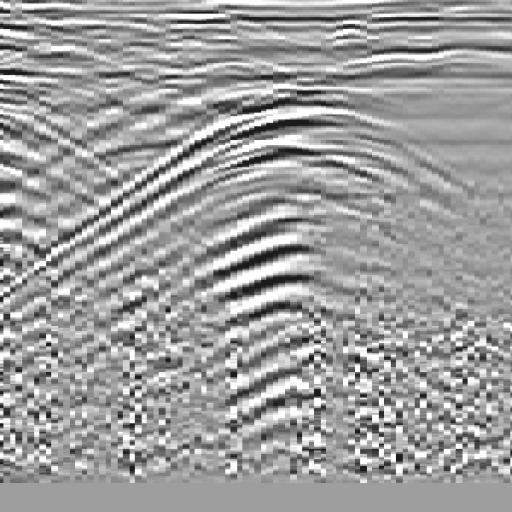metalic: (93, 93, 475, 335)
